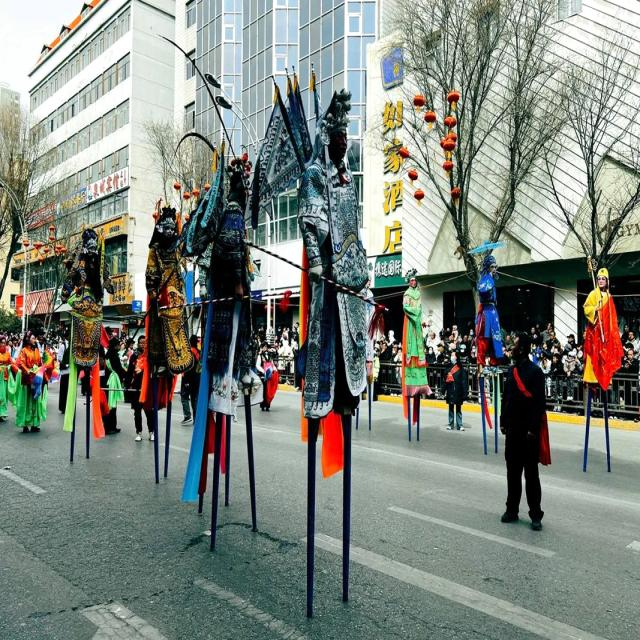Reeves-s Pheasant: (161, 36, 227, 134), (176, 131, 215, 154), (219, 97, 232, 108)
